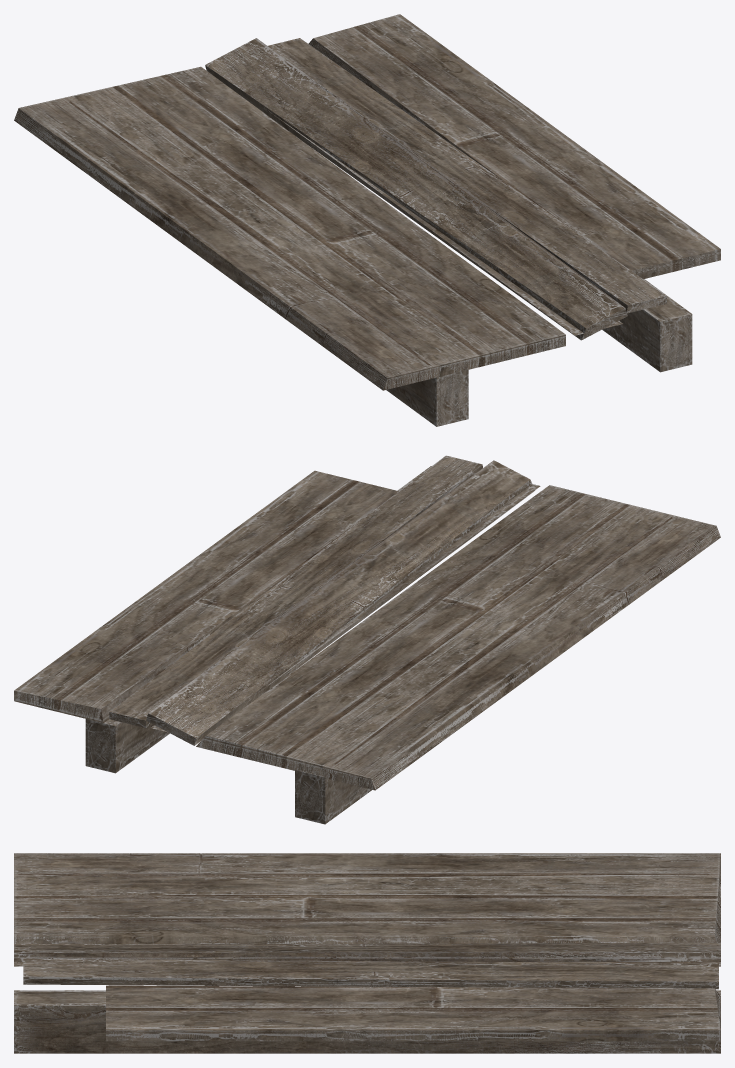
File: SM_WoodenPier01.FBX
3 views of the same model, one above another, from view 1: azimuth 30°, elevation 25°; view 2: azimuth 150°, elevation 25°; view 3: azimuth 270°, elevation 25° (orthographic). The views are drawn at different scales.
Visible parts, largest first — view 1: SM_WoodenPier01; view 2: SM_WoodenPier01; view 3: SM_WoodenPier01.
Part boxes in pixels (x1=…): SM_WoodenPier01: x1=14, y1=14, x2=720, y2=426; SM_WoodenPier01: x1=14, y1=455, x2=720, y2=824; SM_WoodenPier01: x1=14, y1=853, x2=720, y2=1053.
Size of the model in its own units: 302 by 500 by 54.37.
